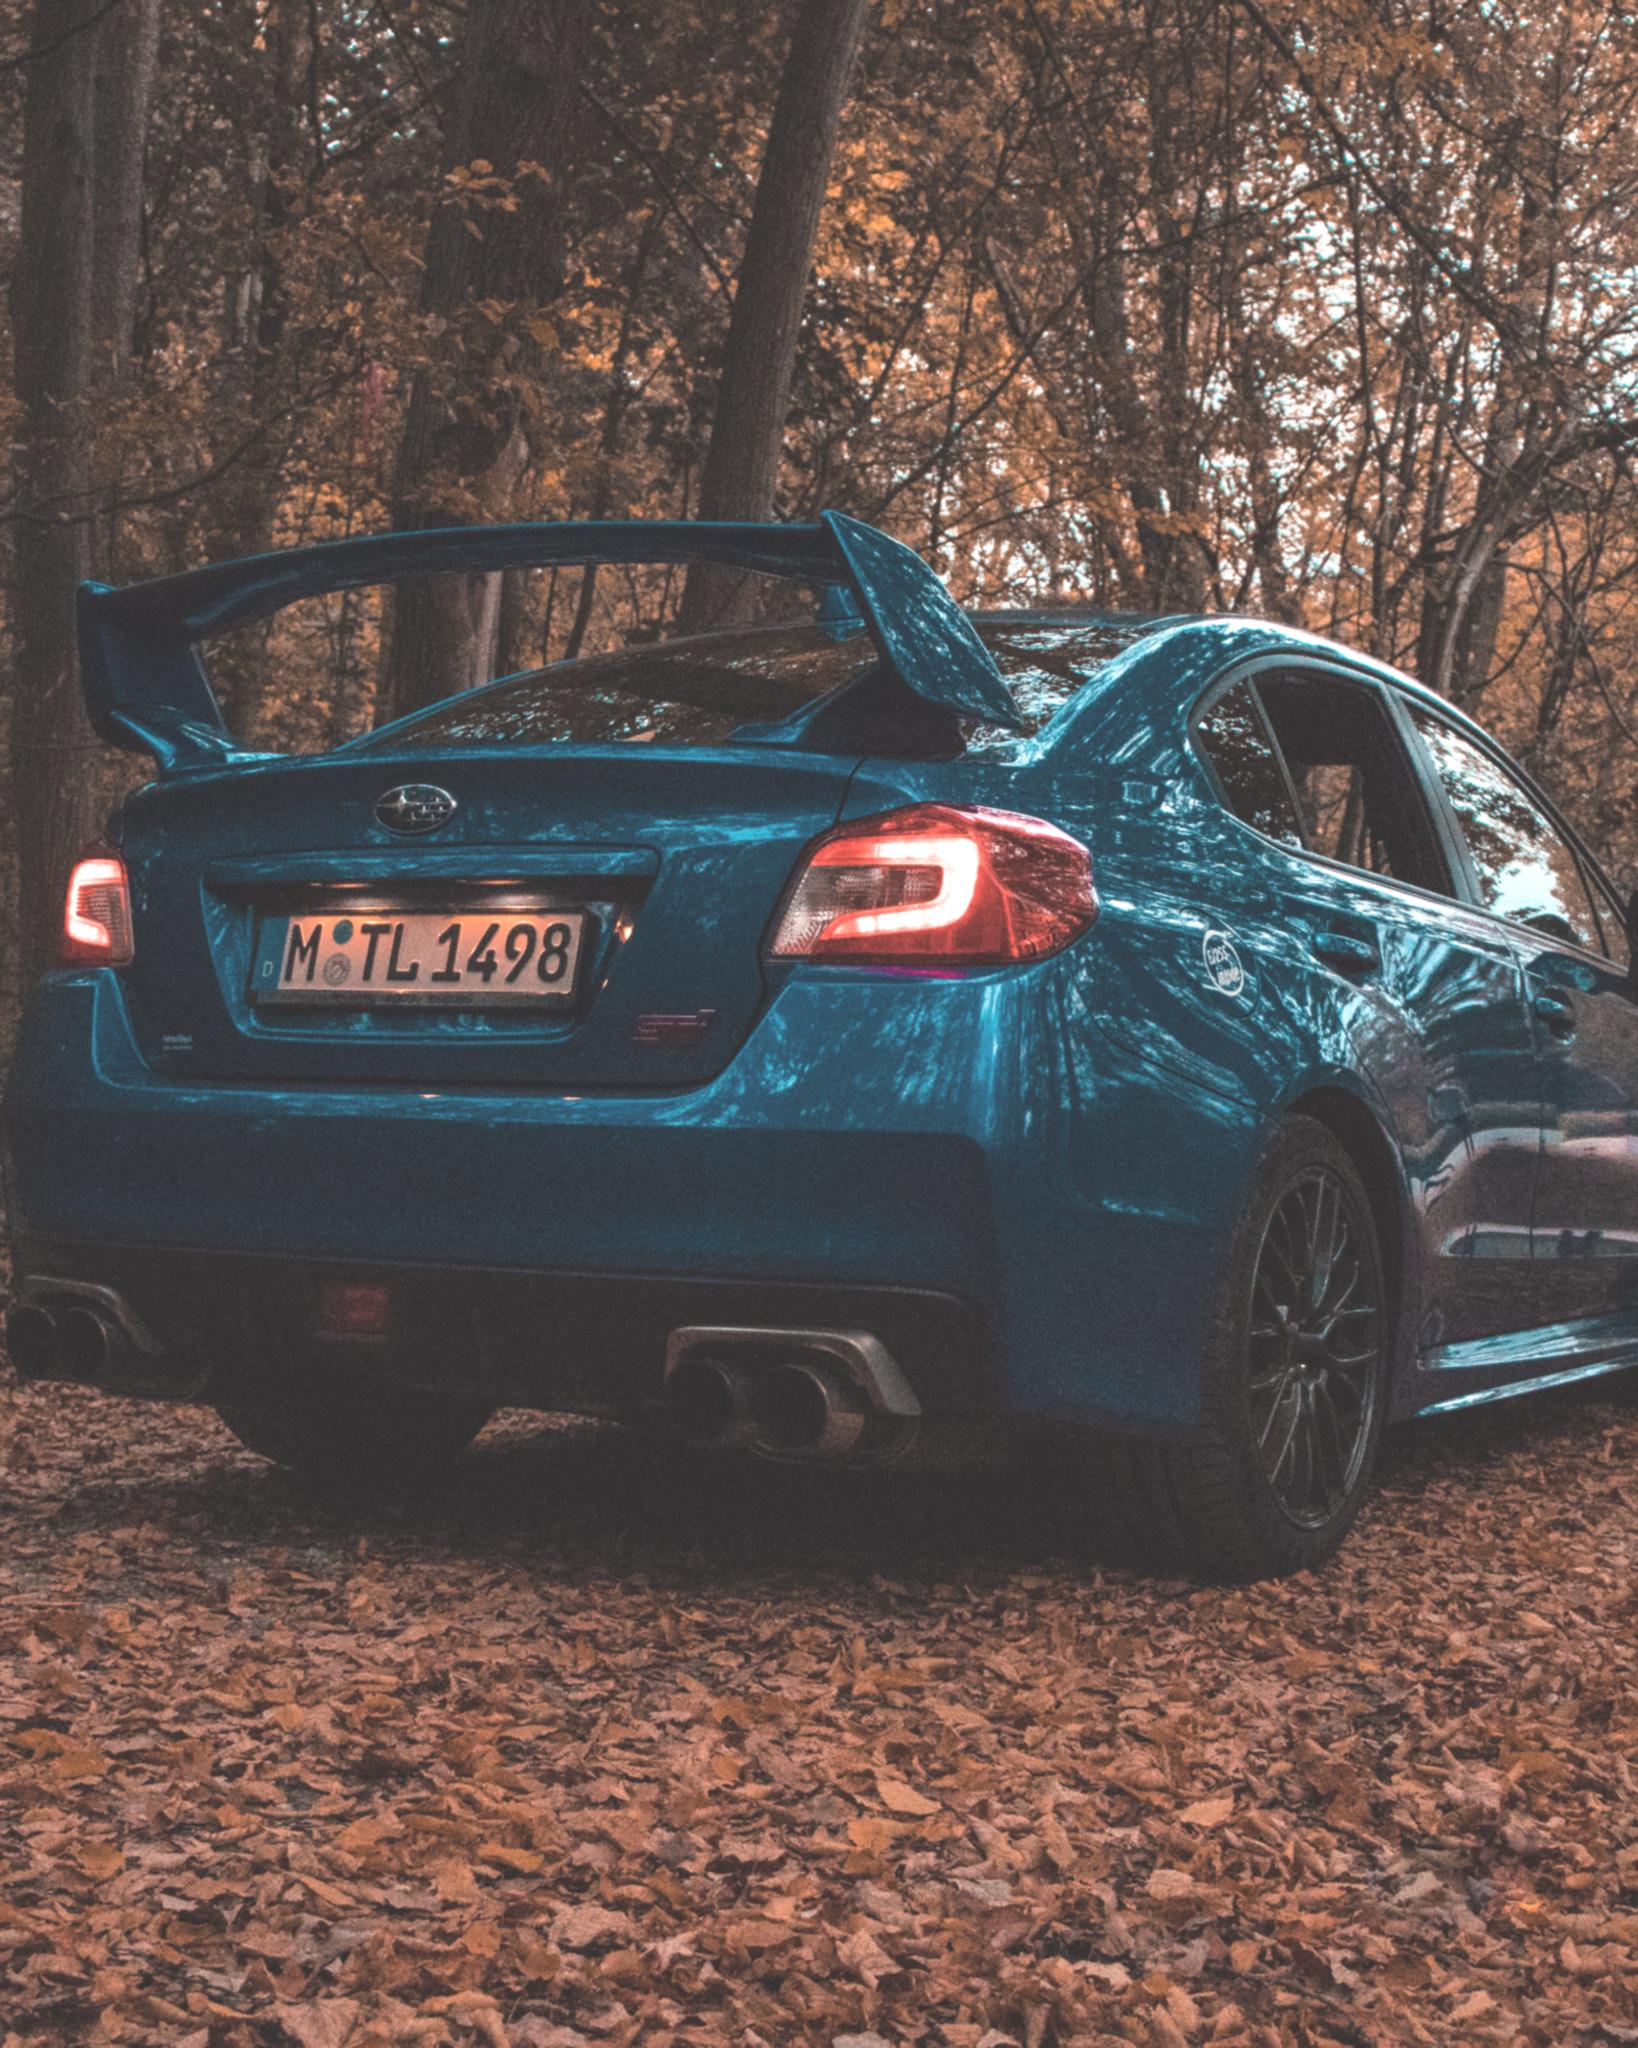subaru: (344, 752, 498, 858)
